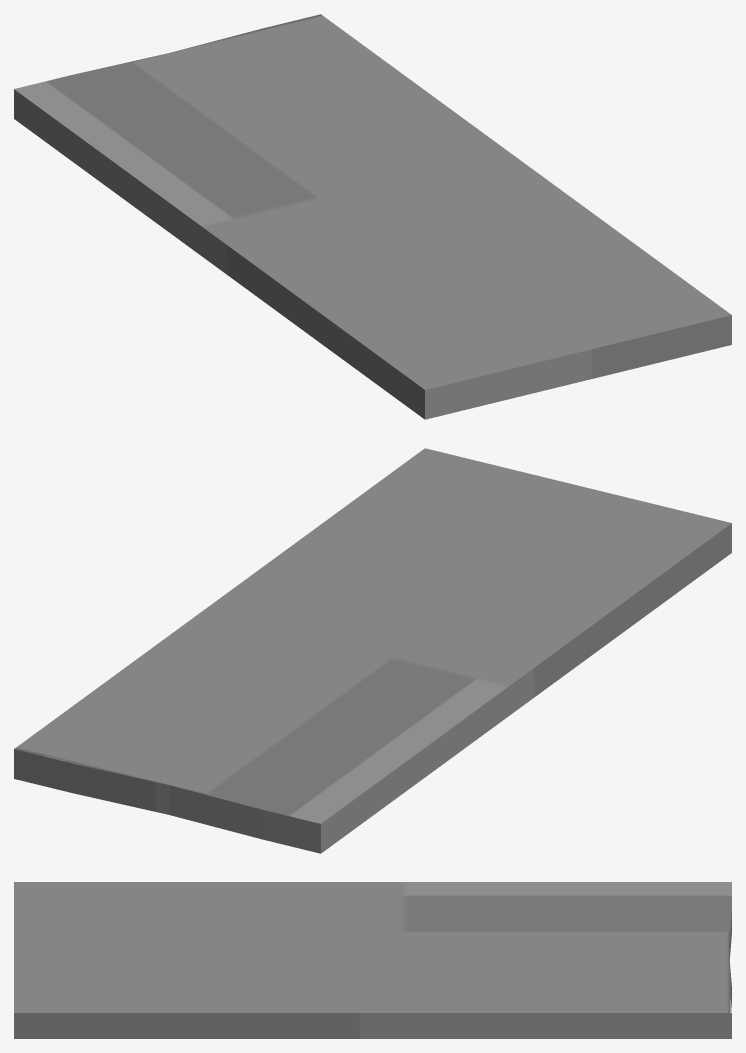
3 views of the same model, one above another, from view 1: azimuth 30°, elevation 25°; view 2: azimuth 150°, elevation 25°; view 3: azimuth 270°, elevation 25° (orthographic). The views are drawn at different scales.
Bounding box in the file's own units: 0.8924 × 0.0966 × 2.07.
